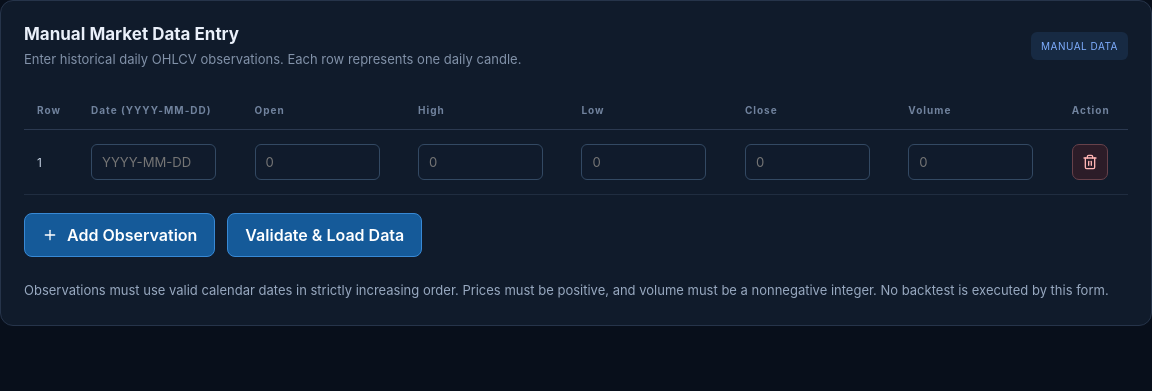
it: ManualDataEditor interactions › rejects incomplete observations
Click the button "Validate & Load Data".
click(325, 235)  # box [227,213,422,257]
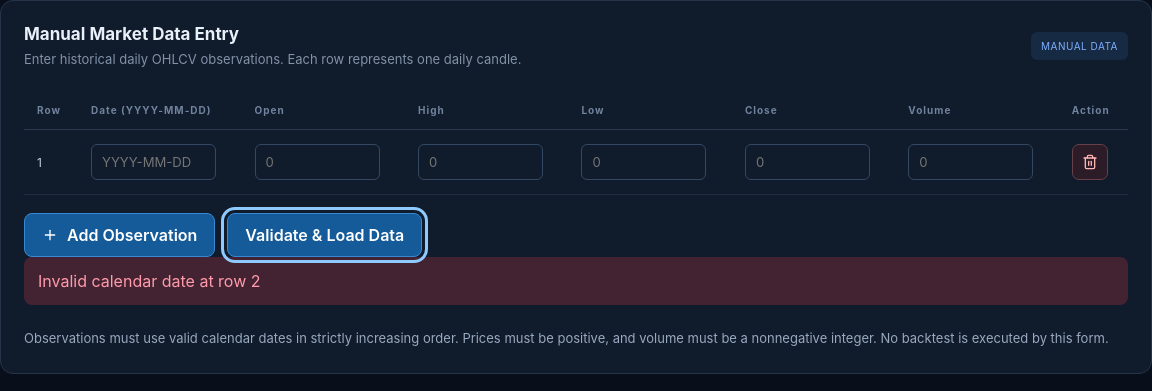
Now the message "Invalid calendar date at row 2" is shown, box [24,257,1128,305]
